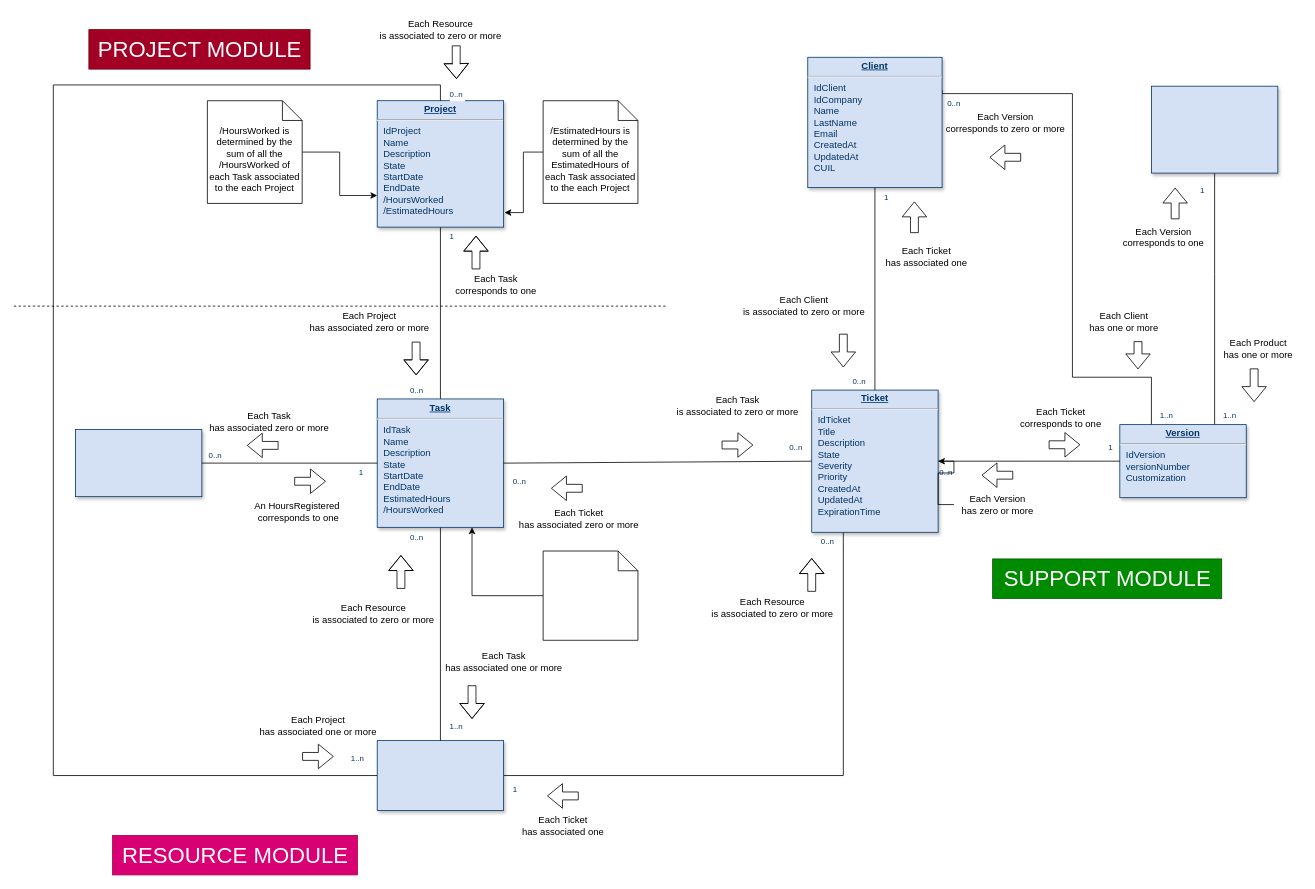
Image size: 1315x889. Some labels were removed from this diagram. Each missing label, with the centre of its shape:
"/HoursWorked is determined by the sum of the HoursRegistered for that Task" belongs at (590,595).
"HoursRegistered IdHoursRegistered AmountOfHours DateOfWork" belongs at (139,464).
"Product IdProduct Name Description CreatedAt" belongs at (1215,130).
"Resource IdResouce Name Lastname" belongs at (440,776).
